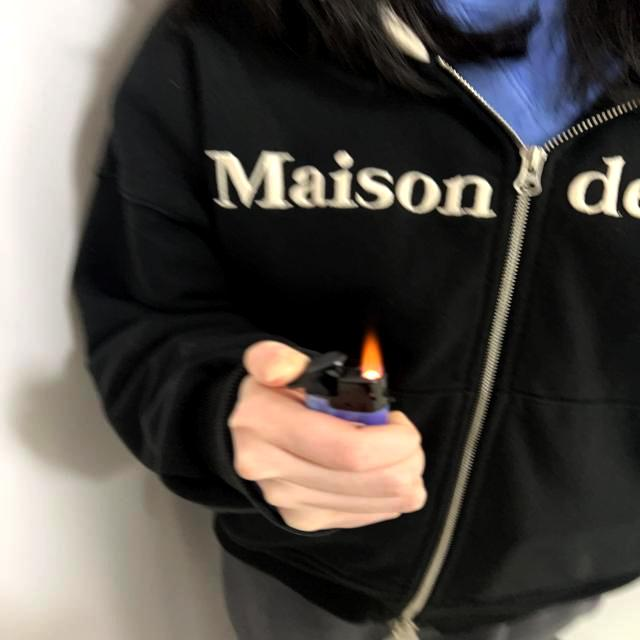fire: (356, 332, 388, 380)
